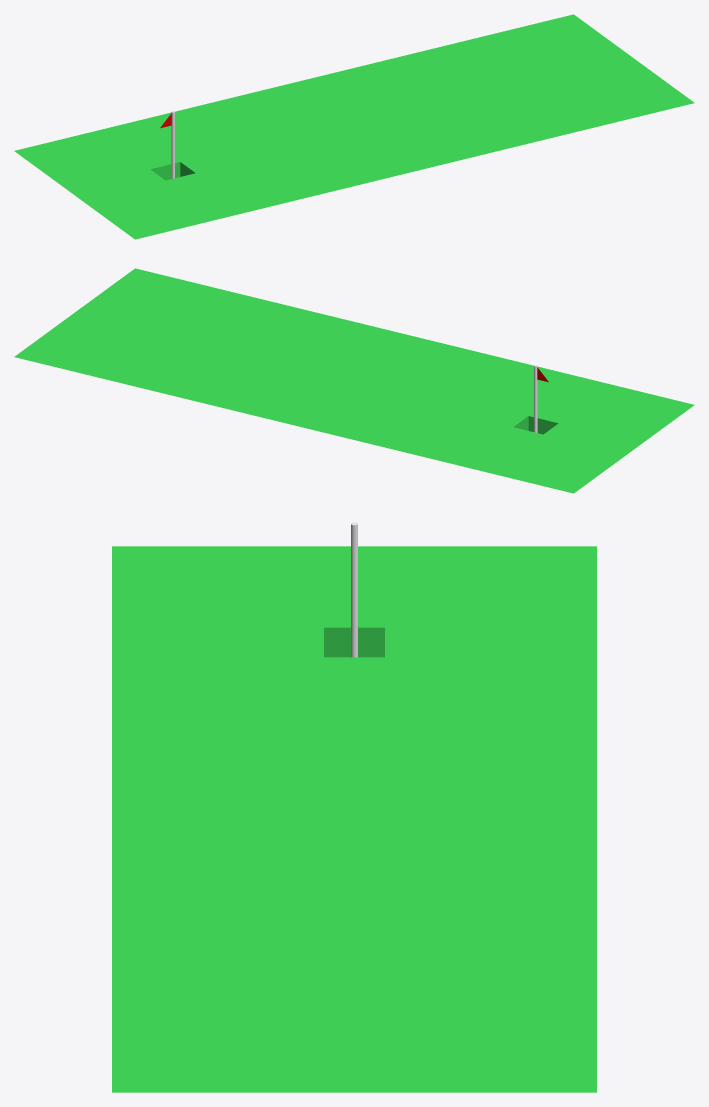
The model's file is minigolf.dae.
The picture shows the model from 3 angles, top to bottom: view 1: azimuth 30°, elevation 25°; view 2: azimuth 150°, elevation 25°; view 3: azimuth 270°, elevation 25°; orthographic projection. The views are drawn at different scales.
Parts seen in each view (by area): view 1: Plane; view 2: Plane; view 3: Plane, Cylinder.
Part boxes in pixels (x1=…): Plane: x1=14, y1=14, x2=694, y2=239; Plane: x1=14, y1=268, x2=694, y2=493; Plane: x1=112, y1=546, x2=596, y2=1092; Cylinder: x1=351, y1=522, x2=357, y2=657.
Bounding box in the file's own units: 16 × 6 × 2.38.
